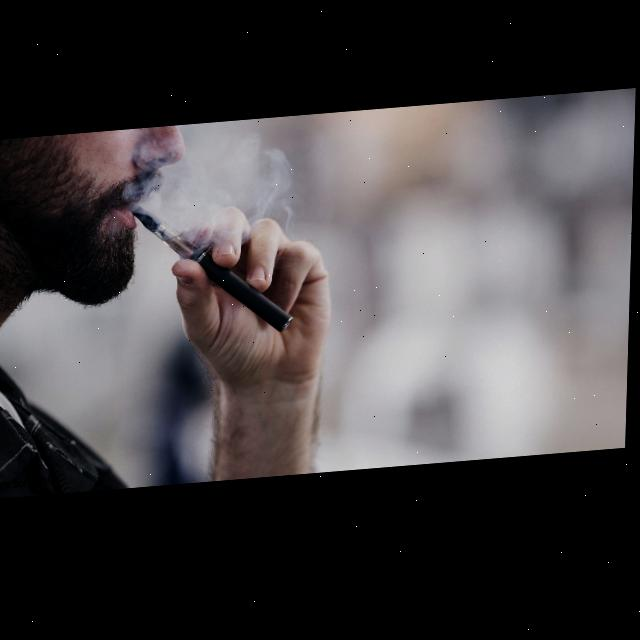vape: (129, 195, 298, 349)
